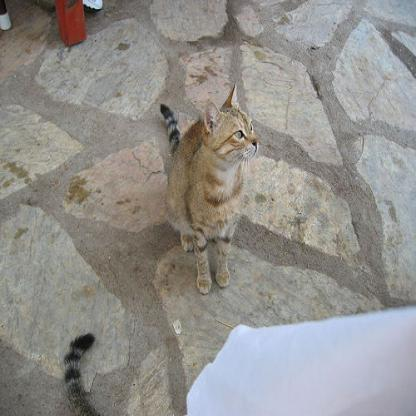cat: (158, 81, 260, 300)
